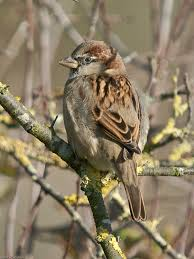hsparrow: (58, 38, 160, 220)
